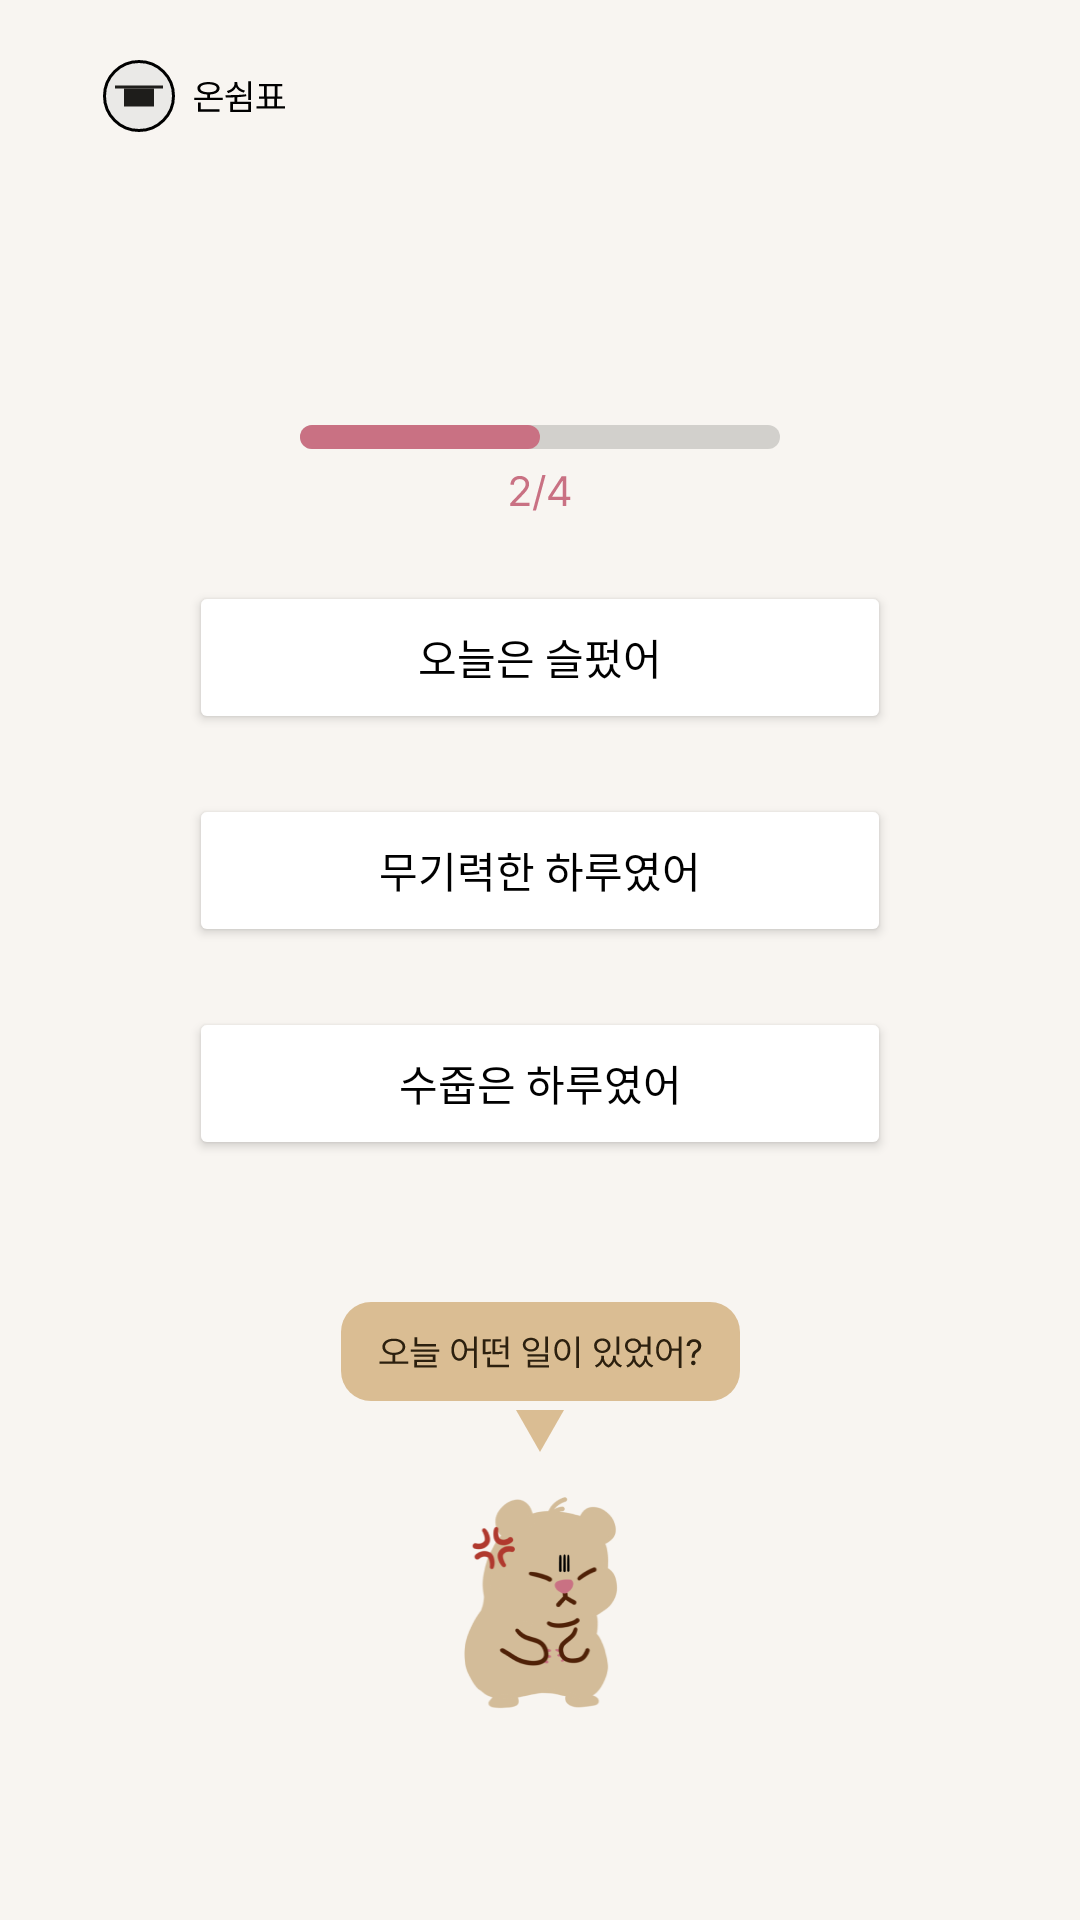

Screen size 1080w x 1920h. Icon name, then its box in pixels as {"left": x1, "top": y1, "right": x2, "bottom": y2}:
angry page: {"left": 464, "top": 1497, "right": 617, "bottom": 1708}
